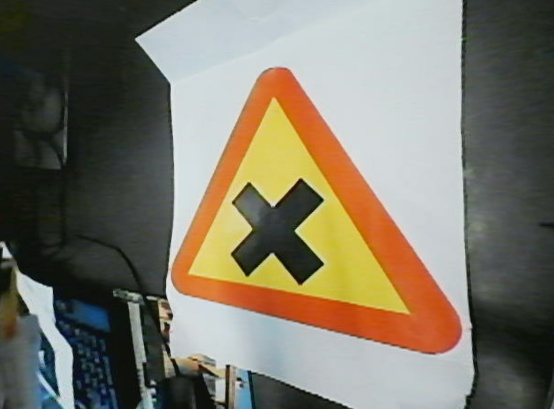junction: (142, 68, 472, 365)
